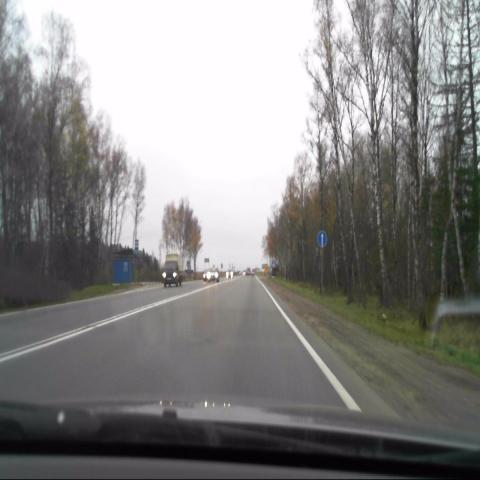4_1_1: (317, 229, 327, 248)
